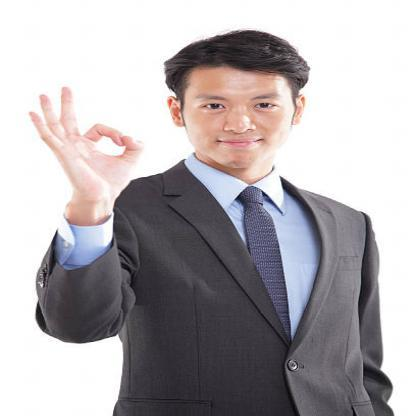ok: (20, 82, 148, 208)
